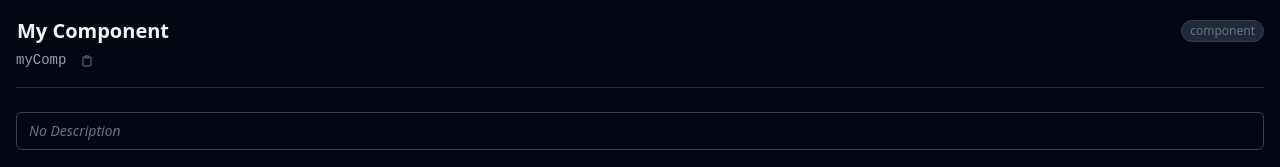
Test: ComponentEditor › name editing › reverts to original name when empty name is blurred
Clear the field showing "My Component" at (595, 31), box [12,16,1177,46]
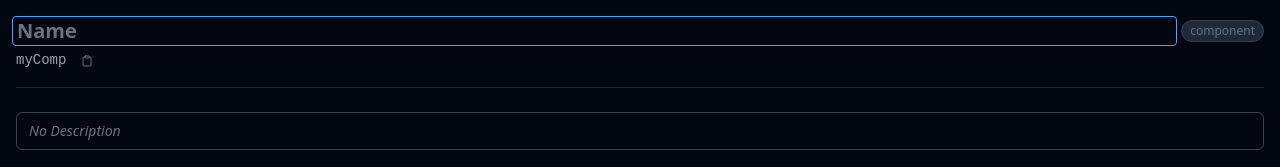
Press Tab
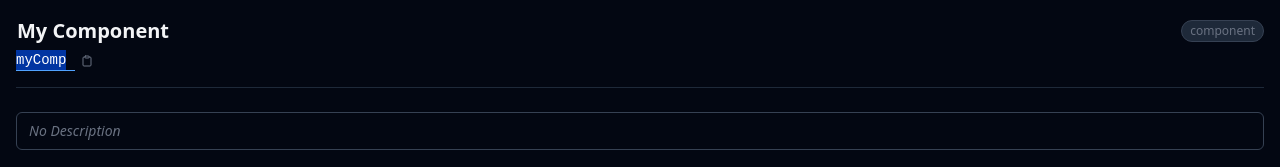
Now the field showing "My Component" is shown, box [12,16,1177,46]
